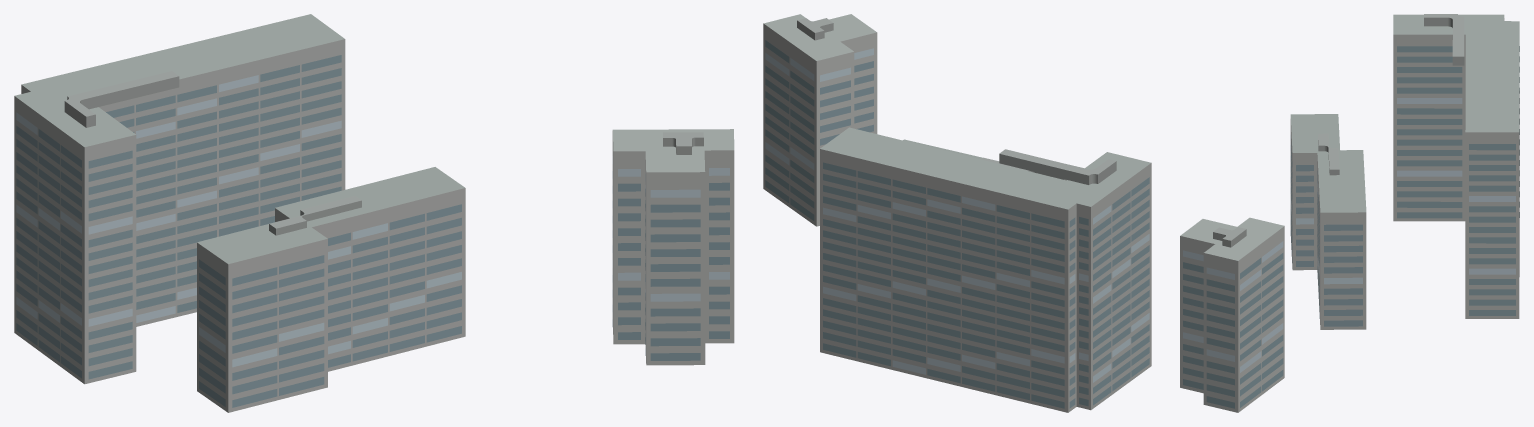
File: apt-a14206201.glb
The picture shows the model from 3 angles, left to right: view 1: azimuth 30°, elevation 25°; view 2: azimuth 150°, elevation 25°; view 3: azimuth 270°, elevation 25°; orthographic projection. The views are drawn at different scales.
Visible parts, largest first — view 1: apt-a14206201; view 2: apt-a14206201; view 3: apt-a14206201.
Boxes of the visible parts, x1,y1,x2,y2 form: apt-a14206201: (14,14,734,412); apt-a14206201: (763,14,1151,412); apt-a14206201: (1180,14,1519,412).
Bounding box in the file's own units: 118 × 51 × 80.34.
